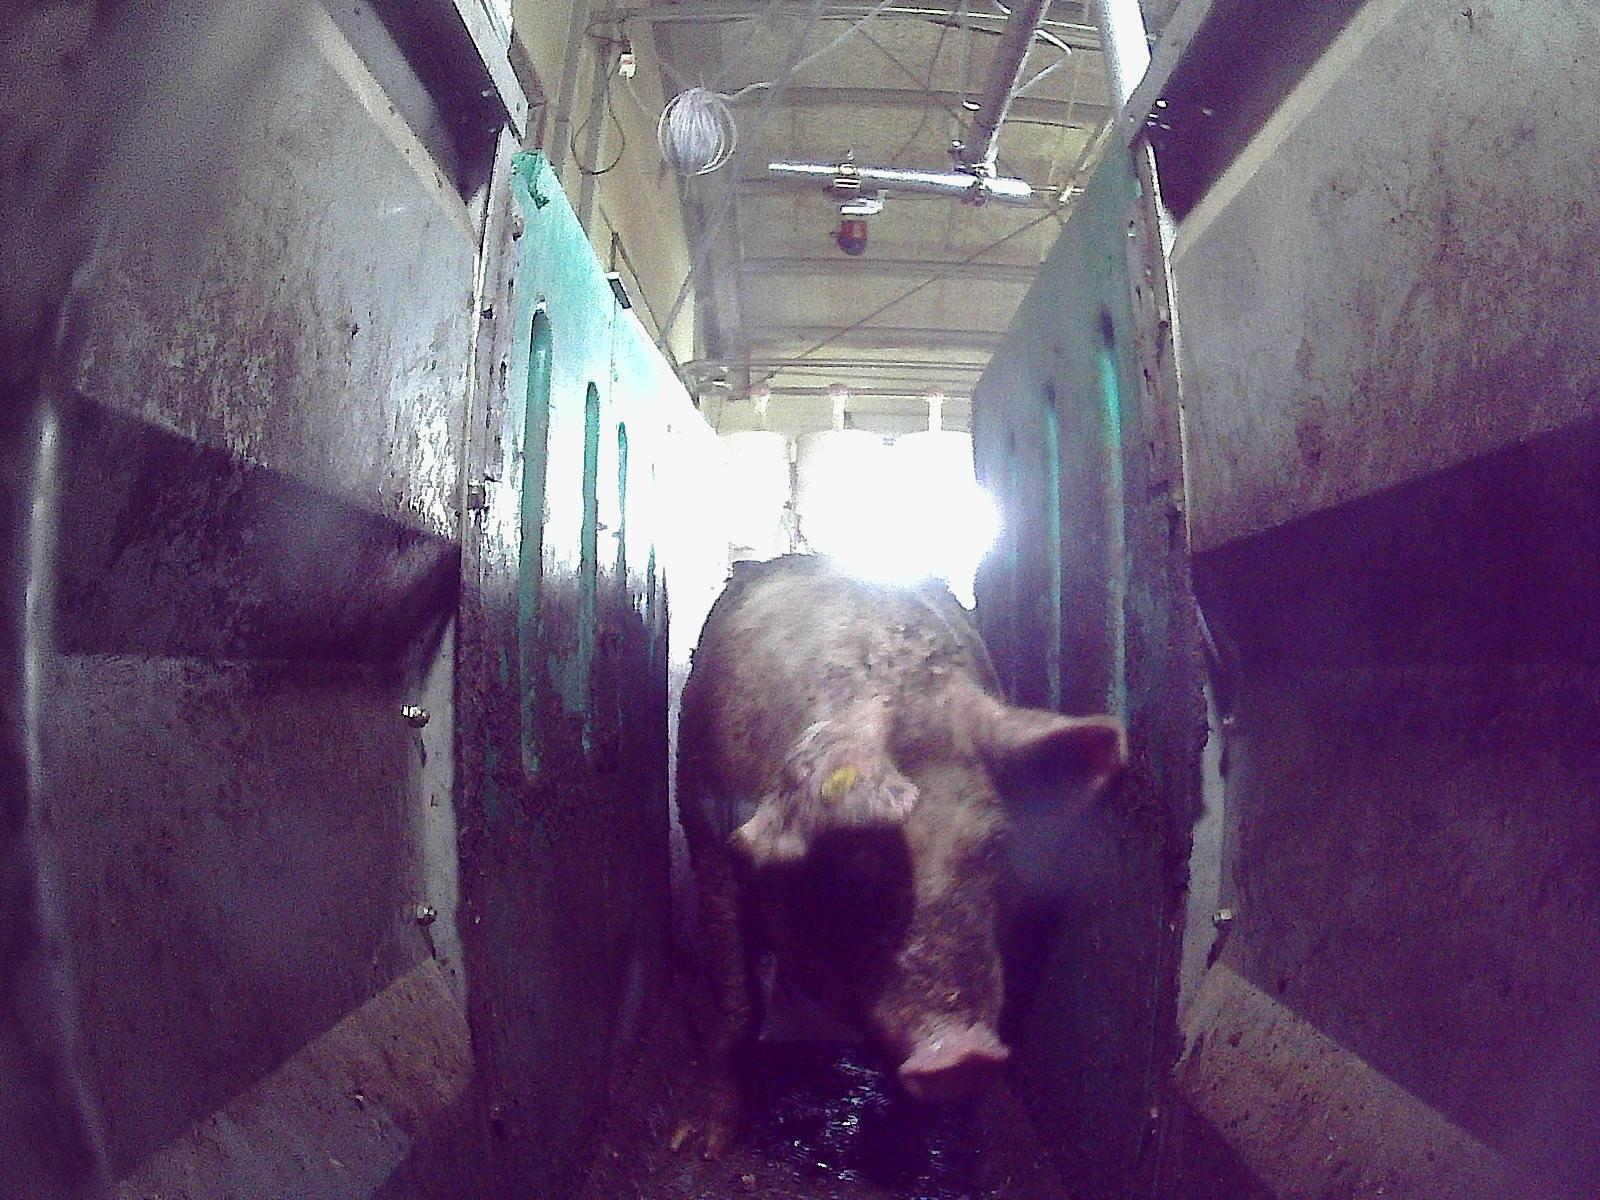Face: (743, 692, 1028, 1104)
